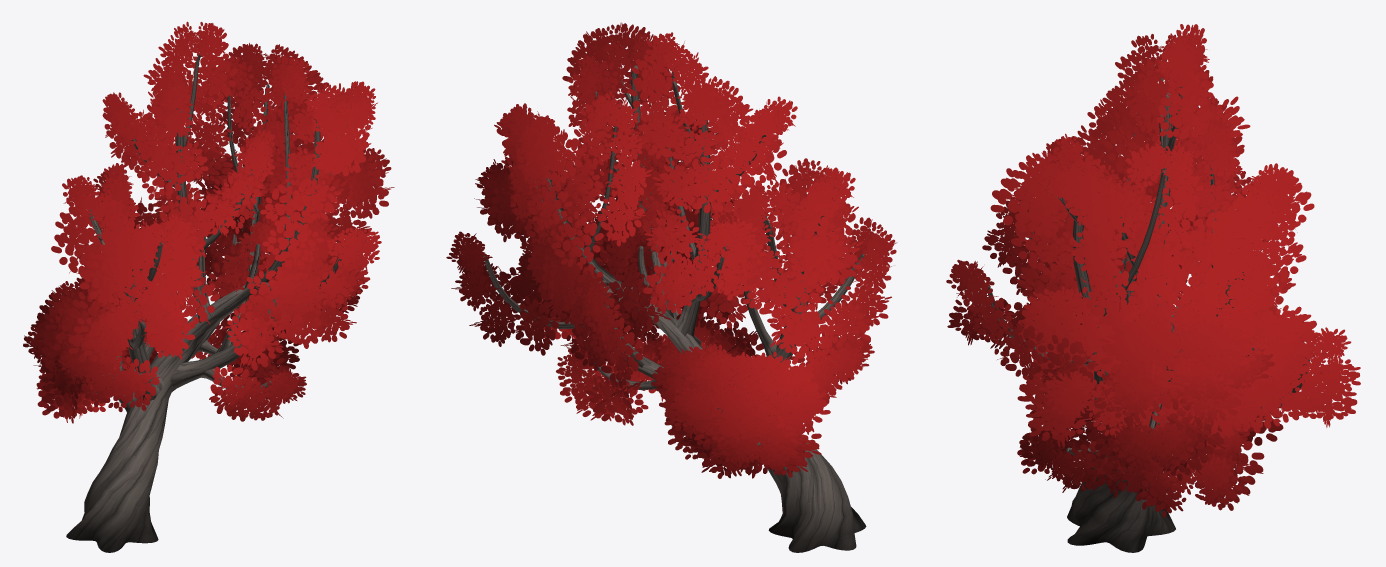
Rendered from TwistedTree_1.glb.
The picture shows the model from 3 angles, left to right: view 1: azimuth 30°, elevation 25°; view 2: azimuth 150°, elevation 25°; view 3: azimuth 270°, elevation 25°; orthographic projection. The views are drawn at different scales.
Visible parts, largest first — view 1: TwistedTree_1; view 2: TwistedTree_1; view 3: TwistedTree_1.
Boxes of the visible parts, box(x1,y1,x2,y2) form: TwistedTree_1: box(23, 21, 394, 552); TwistedTree_1: box(446, 22, 897, 552); TwistedTree_1: box(946, 24, 1360, 552).
Bounding box in the file's own units: 13.52 × 16.73 × 11.55.
Materials: 2 (2 with a texture image).
